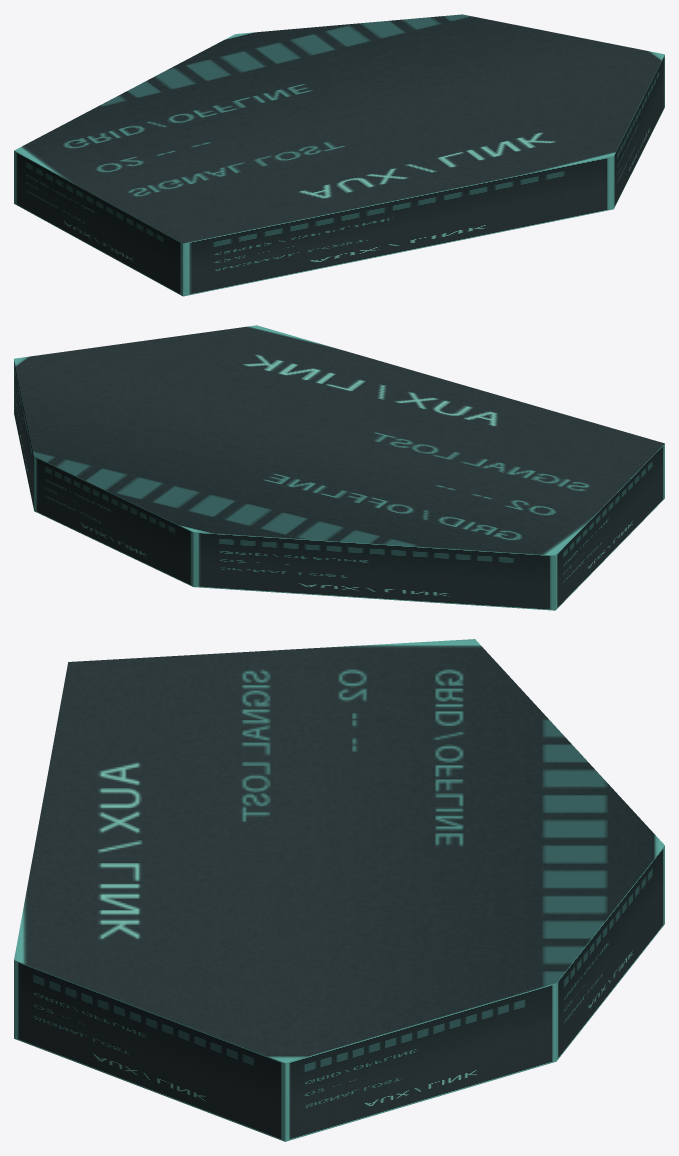
Rendered from debris_panel_LOD3.obj.
The picture shows the model from 3 angles, top to bottom: view 1: azimuth 30°, elevation 25°; view 2: azimuth 150°, elevation 25°; view 3: azimuth 270°, elevation 25°; orthographic projection. The views are drawn at different scales.
Visible parts, largest first — view 1: L02_debris_panel_LOD3; view 2: L02_debris_panel_LOD3; view 3: L02_debris_panel_LOD3.
Boxes of the visible parts, <box> form: L02_debris_panel_LOD3: <box>14,14,664,296</box>; L02_debris_panel_LOD3: <box>14,325,664,610</box>; L02_debris_panel_LOD3: <box>14,639,664,1141</box>.
Bounding box in the file's own units: 1.85 × 0.16 × 1.2.
1 material, 1 textured.
